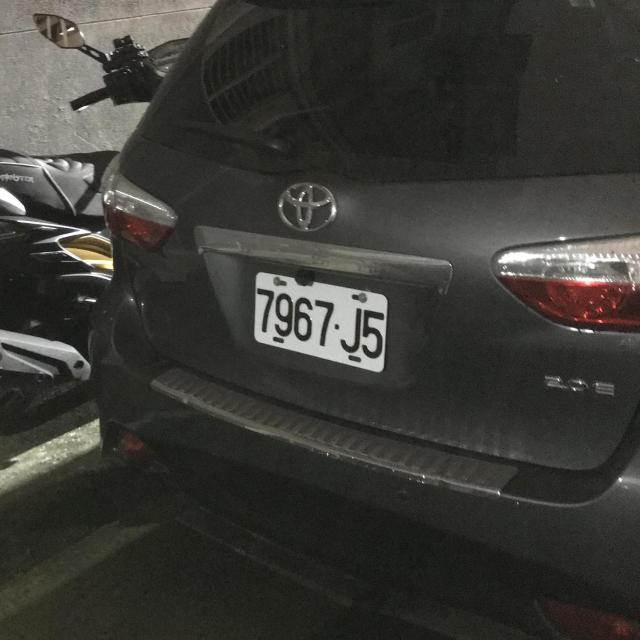W: (246, 262, 392, 376)
